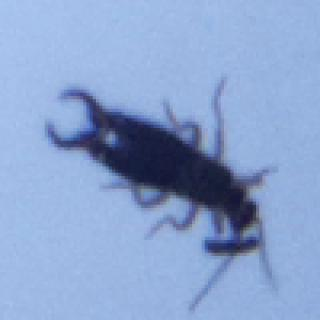earwig: (44, 71, 282, 316)
